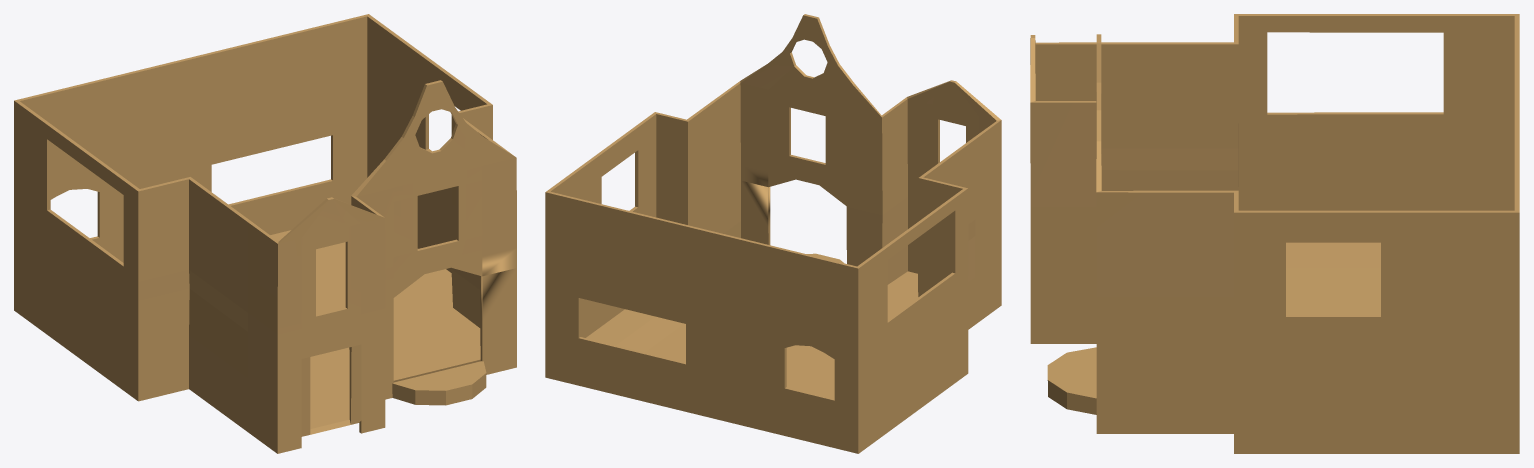
The model's file is fachada.obj.
The picture shows the model from 3 angles, left to right: view 1: azimuth 30°, elevation 25°; view 2: azimuth 150°, elevation 25°; view 3: azimuth 270°, elevation 25°; orthographic projection. The views are drawn at different scales.
Visible parts, largest first — view 1: Paredes; view 2: Paredes; view 3: Paredes.
Boxes of the visible parts, bbox=[...] form: Paredes: bbox=[14, 14, 516, 453]; Paredes: bbox=[545, 14, 1001, 453]; Paredes: bbox=[1030, 14, 1519, 453].
Size of the model in its own units: 200 by 163 by 208.
